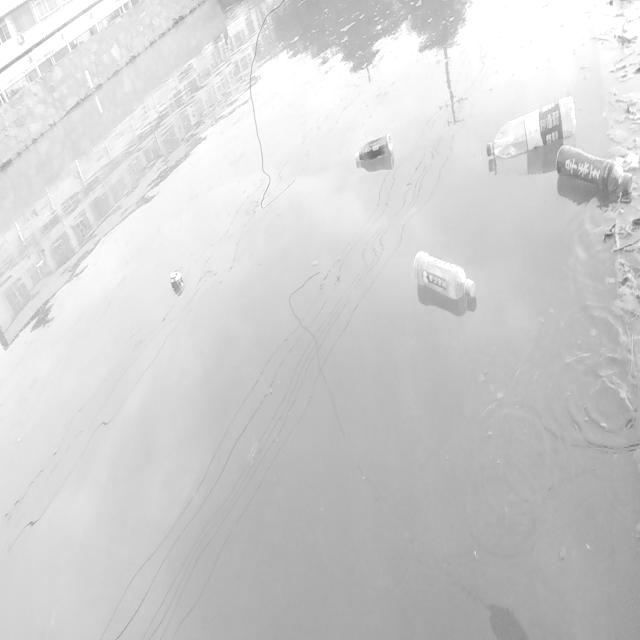bottle: (463, 71, 590, 200), (547, 133, 640, 208), (403, 238, 483, 314), (351, 119, 404, 173)
